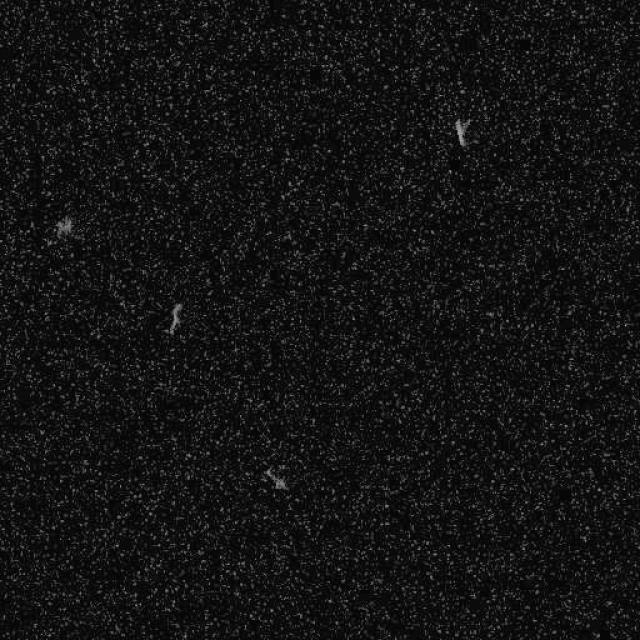D2: (261, 466, 289, 492), (165, 301, 184, 335), (452, 118, 470, 148), (54, 214, 74, 238)
